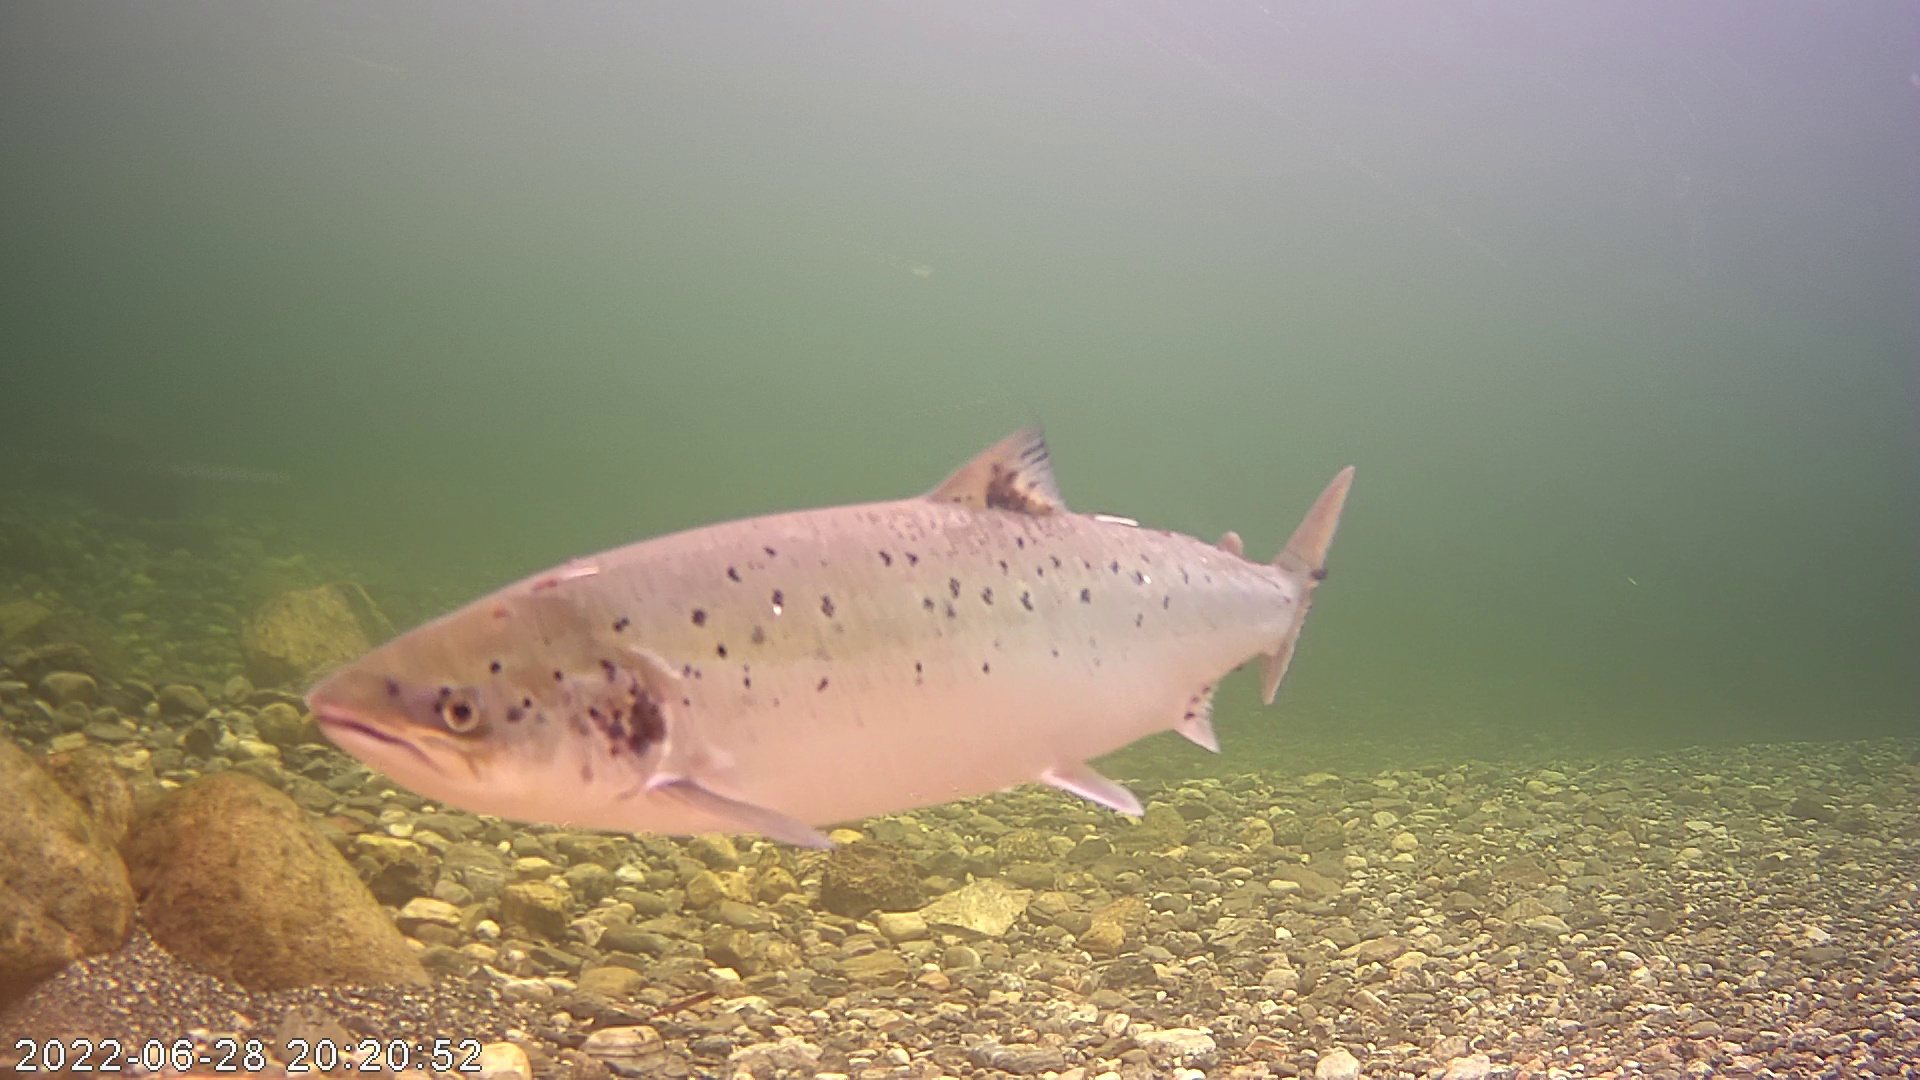salmon: (285, 367, 1352, 862)
